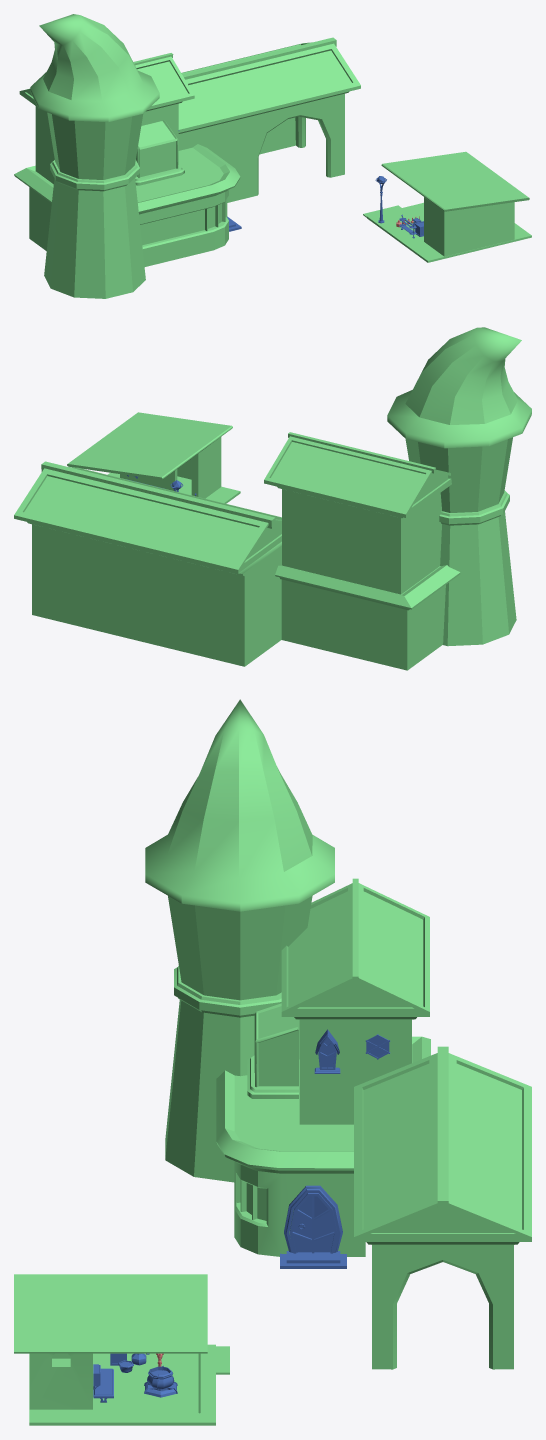
File: Casa_Mago_UVs (1).fbx
3 renders of one model, top to bottom at view 1: azimuth 30°, elevation 25°; view 2: azimuth 150°, elevation 25°; view 3: azimuth 270°, elevation 25°, orthographic. The views are drawn at different scales.
Parts seen in each view (by area): view 1: torre_UVs, garaje_UVs, casita_UVs, primer_piso_UVs, segundo_piso_UVs, anexo_UVs; view 2: garaje_UVs, torre_UVs, segundo_piso_UVs, primer_piso_UVs, casita_UVs; view 3: torre_UVs, garaje_UVs, casita_UVs, segundo_piso_UVs, primer_piso_UVs, anexo_UVs, puerta1_UVs, escaleras_puerta_UVs, ventana_pared_UVs.
Boxes of the visible parts, x1,y1,x2,y2 form: torre_UVs: (30,14,159,298); garaje_UVs: (178,37,360,202); casita_UVs: (363,151,531,262); primer_piso_UVs: (14,144,240,266); segundo_piso_UVs: (19,53,194,184); anexo_UVs: (135,120,184,185); garaje_UVs: (14,461,281,666); torre_UVs: (387,327,531,646); segundo_piso_UVs: (264,432,451,594); primer_piso_UVs: (275,565,460,670); casita_UVs: (67,412,240,503); torre_UVs: (145,699,334,1182); garaje_UVs: (354,1046,531,1369); casita_UVs: (14,1274,229,1425); segundo_piso_UVs: (281,878,429,1124); primer_piso_UVs: (216,1036,430,1256); anexo_UVs: (247,1003,298,1098); puerta1_UVs: (284,1185,342,1253); escaleras_puerta_UVs: (280,1251,346,1268); ventana_pared_UVs: (314,1029,340,1073).
Bounding box in the file's own units: 47.17 × 28.29 × 32.38.
